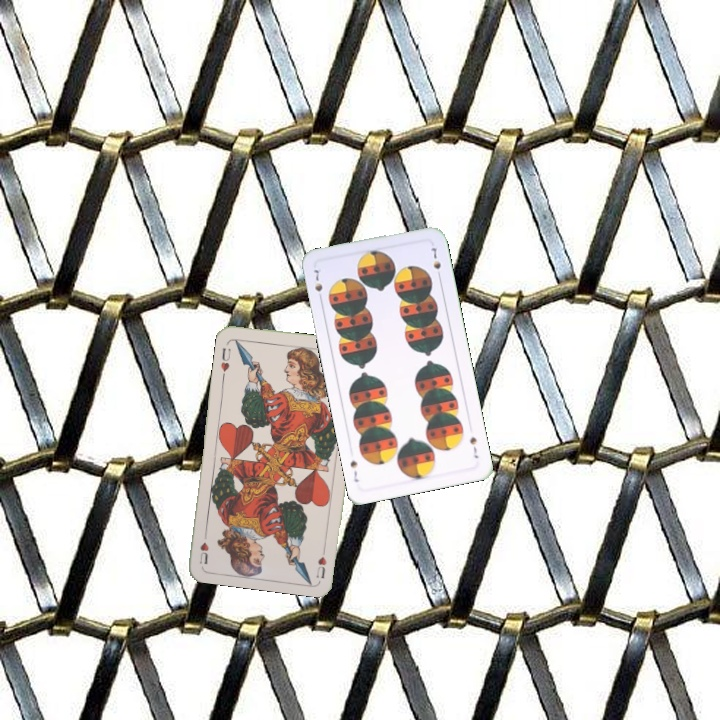HU: (312, 541, 329, 581), (217, 344, 233, 374)
S7: (309, 265, 325, 304), (466, 433, 481, 461)
